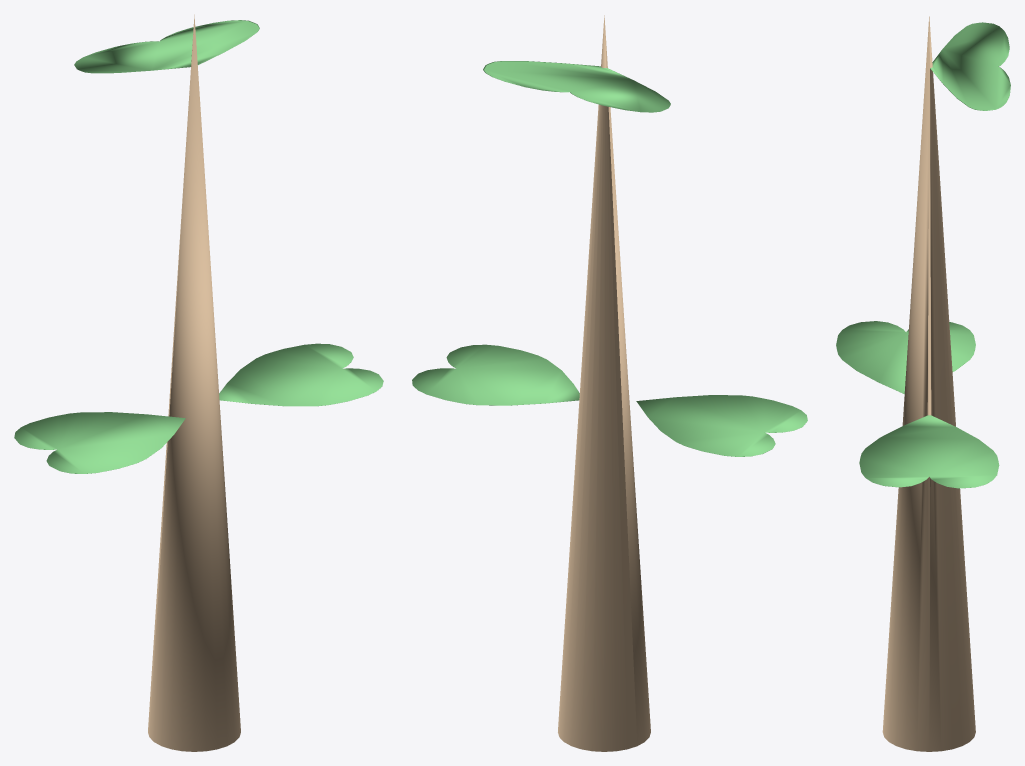
File: level3.glb
3 views of the same model, side by side, from view 1: azimuth 30°, elevation 25°; view 2: azimuth 150°, elevation 25°; view 3: azimuth 270°, elevation 25° (orthographic).
Parts seen in each view (by area): view 1: obj_0.002; view 2: obj_0.002; view 3: obj_0.002.
Boxes of the visible parts, box(x1,y1,x2,y2) form: obj_0.002: box(14, 14, 383, 751); obj_0.002: box(412, 15, 807, 751); obj_0.002: box(836, 16, 1010, 751).
Bounding box in the file's own units: 34 × 68 × 15.
